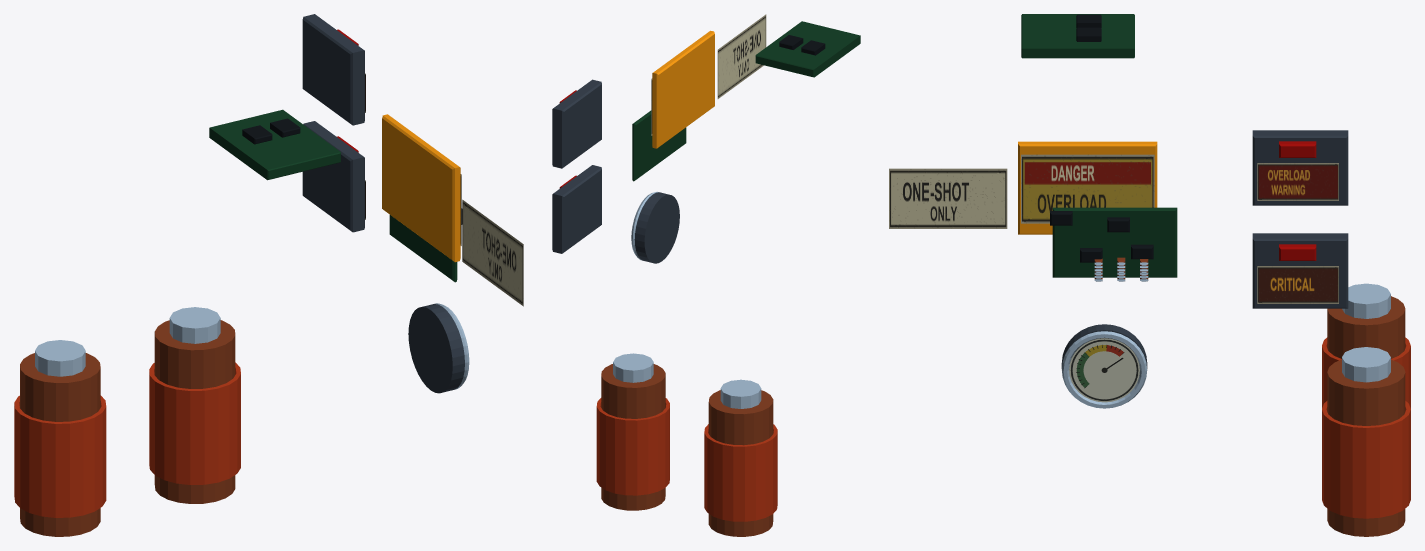
File: ScrapSonic_Electronics.obj
The picture shows the model from 3 angles, left to right: view 1: azimuth 30°, elevation 25°; view 2: azimuth 150°, elevation 25°; view 3: azimuth 270°, elevation 25°; orthographic projection. The views are drawn at different scales.
Visible parts, largest first — view 1: Tape, Housing, Copper, BladeYellow, Board, Label, Steel, Rubber; view 2: Tape, Housing, Copper, BladeYellow, Board, Label, Steel, Rubber; view 3: Label, Board, Tape, Copper, Housing, Steel, GaugePrint, BladeYellow, Rubber, WarningRed.
Part boxes in pixels (x1,y1,x2,y2): Tape: (14, 362, 240, 517); Housing: (302, 14, 464, 393); Copper: (20, 320, 235, 536); BladeYellow: (382, 114, 460, 262); Board: (209, 109, 457, 282); Label: (365, 73, 523, 306); Steel: (35, 303, 469, 389); Rubber: (242, 118, 462, 224); Tape: (596, 398, 777, 521); Housing: (552, 79, 679, 263); Copper: (601, 364, 773, 536); BladeYellow: (652, 30, 714, 148); Board: (632, 21, 860, 181); Label: (651, 14, 766, 135); Steel: (613, 191, 761, 408); Rubber: (779, 35, 825, 55); Label: (889, 154, 1338, 303); Board: (1021, 14, 1177, 277); Tape: (1322, 337, 1410, 518); Copper: (1094, 257, 1405, 536); Housing: (1061, 130, 1348, 368); Steel: (1062, 262, 1390, 408); GaugePrint: (1069, 338, 1139, 402); BladeYellow: (1018, 141, 1157, 234); Rubber: (1050, 14, 1153, 262); WarningRed: (1279, 141, 1316, 260).
Size of the model in its own units: 0.36 by 0.562 by 0.574.
Materials: 10 (2 with a texture image).
